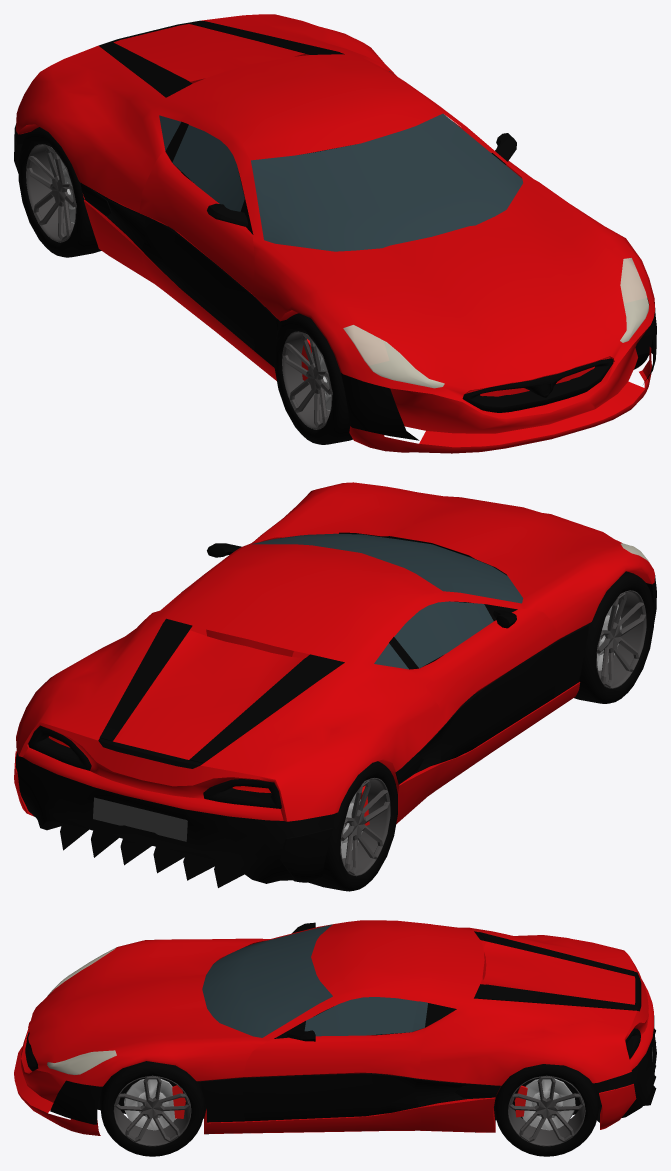
File: rimac-concept-one-distance.glb
3 views of the same model, one above another, from view 1: azimuth 30°, elevation 25°; view 2: azimuth 150°, elevation 25°; view 3: azimuth 270°, elevation 25° (orthographic). The views are drawn at different scales.
Visible parts, largest first — view 1: body, wheel_front_right, wheel_rear_right; view 2: body, wheel_front_right, wheel_rear_right; view 3: body, wheel_front_left, wheel_rear_left.
Part boxes in pixels (x1=…): body: x1=14, y1=14, x2=656, y2=453; wheel_front_right: x1=274, y1=313, x2=352, y2=444; wheel_rear_right: x1=18, y1=127, x2=101, y2=257; body: x1=14, y1=482, x2=656, y2=887; wheel_front_right: x1=574, y1=571, x2=653, y2=703; wheel_rear_right: x1=308, y1=761, x2=397, y2=891; body: x1=14, y1=920, x2=656, y2=1135; wheel_front_left: x1=100, y1=1061, x2=205, y2=1156; wheel_rear_left: x1=494, y1=1064, x2=599, y2=1156.
Size of the model in its own units: 1.88 by 1.09 by 4.2.
4 materials, 1 textured.
